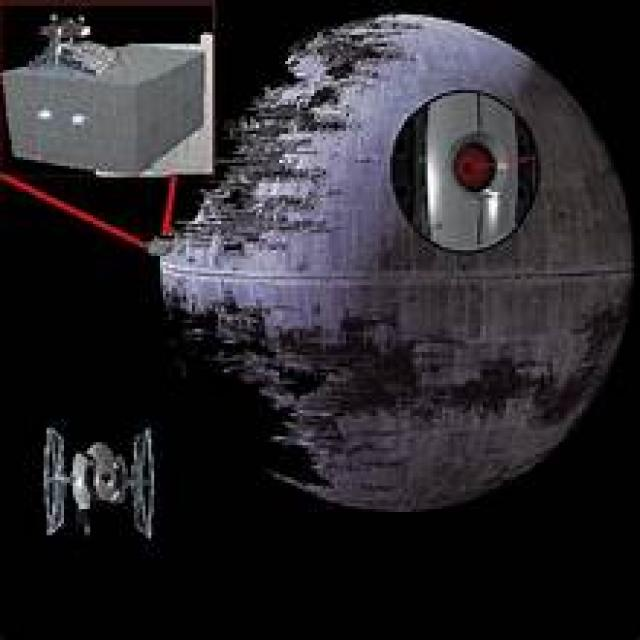deathStar: (155, 22, 637, 510)
